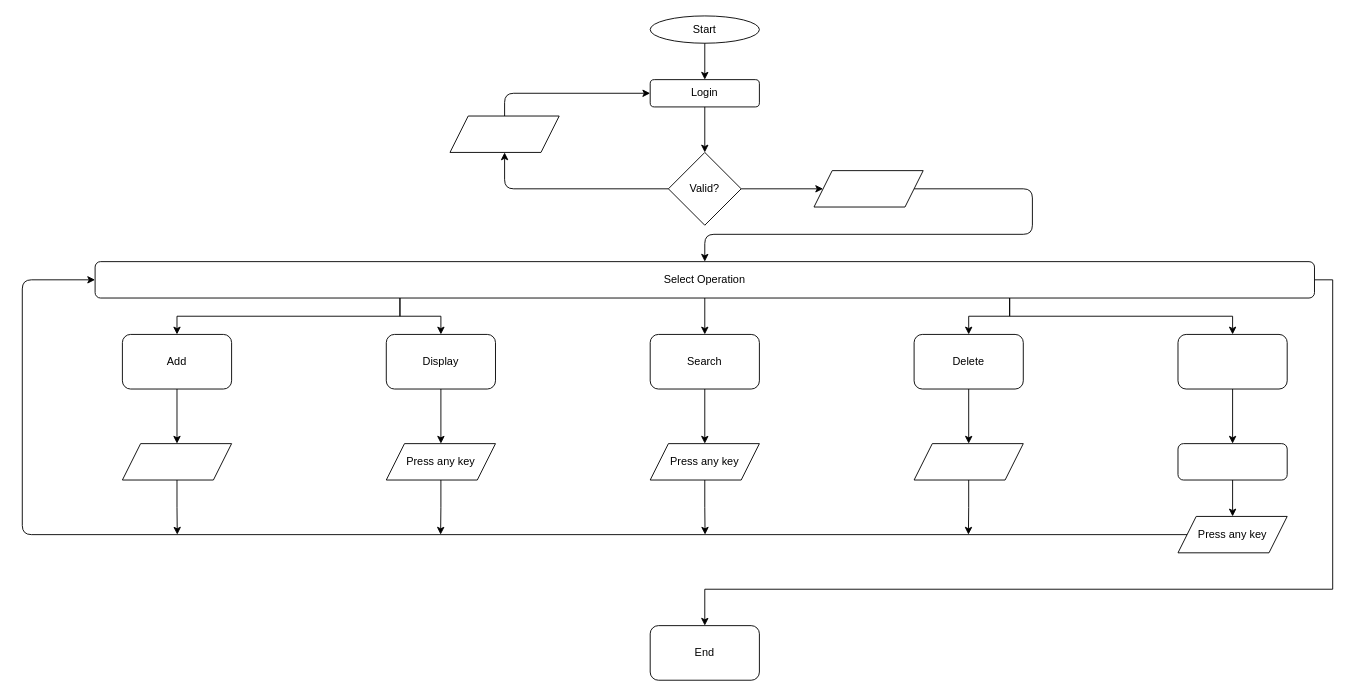
Some shapes in this 1356 by 696 pixel diagram are drawn without their labels. The centre of each missing label's shape, as x and y in pixels:
Added: (176,461)
Deleted: (968,461)
Enter new info: (1232,461)
Modify: (1232,361)
Try again?: (504,133)
Welcome: (868,188)
